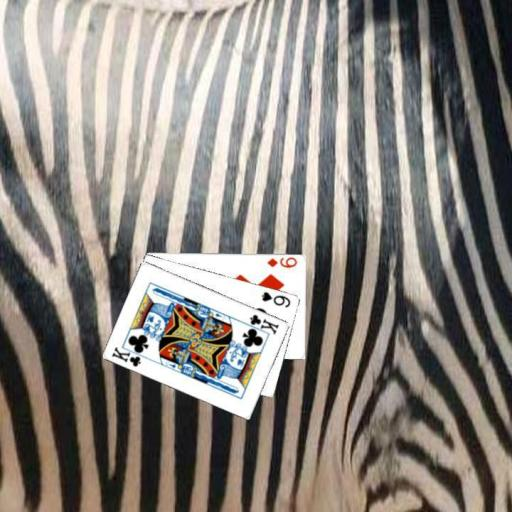card-corner: (108, 343, 148, 368), (241, 312, 280, 336), (258, 288, 292, 309), (264, 254, 298, 268)
